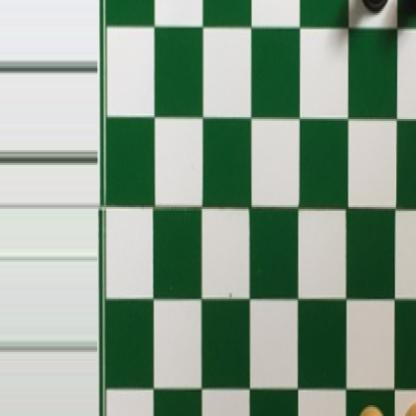black-pawn: (356, 0, 393, 15), (403, 0, 416, 18)
white-pawn: (354, 403, 387, 416), (401, 401, 416, 416)
